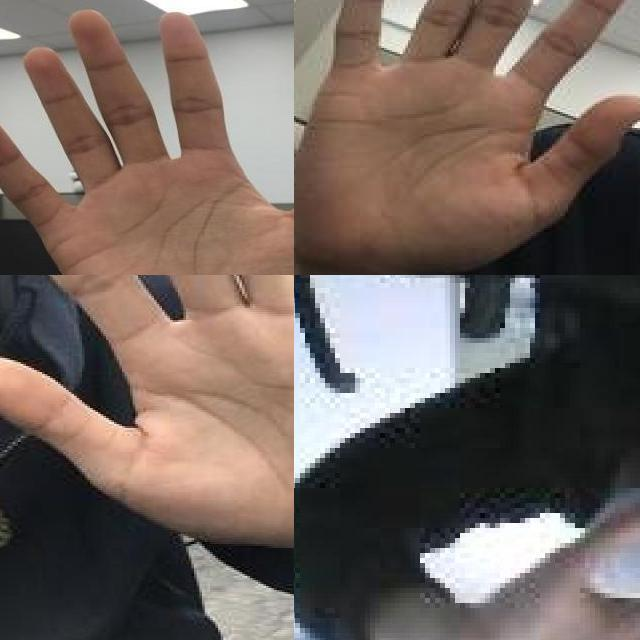hand: (294, 0, 640, 272), (0, 7, 294, 275), (0, 275, 294, 536), (465, 498, 640, 640)
